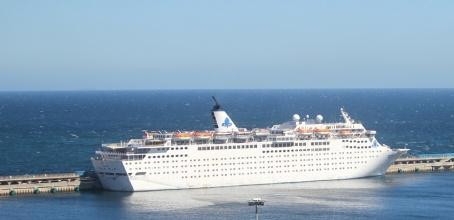youlun: (88, 101, 397, 188)
